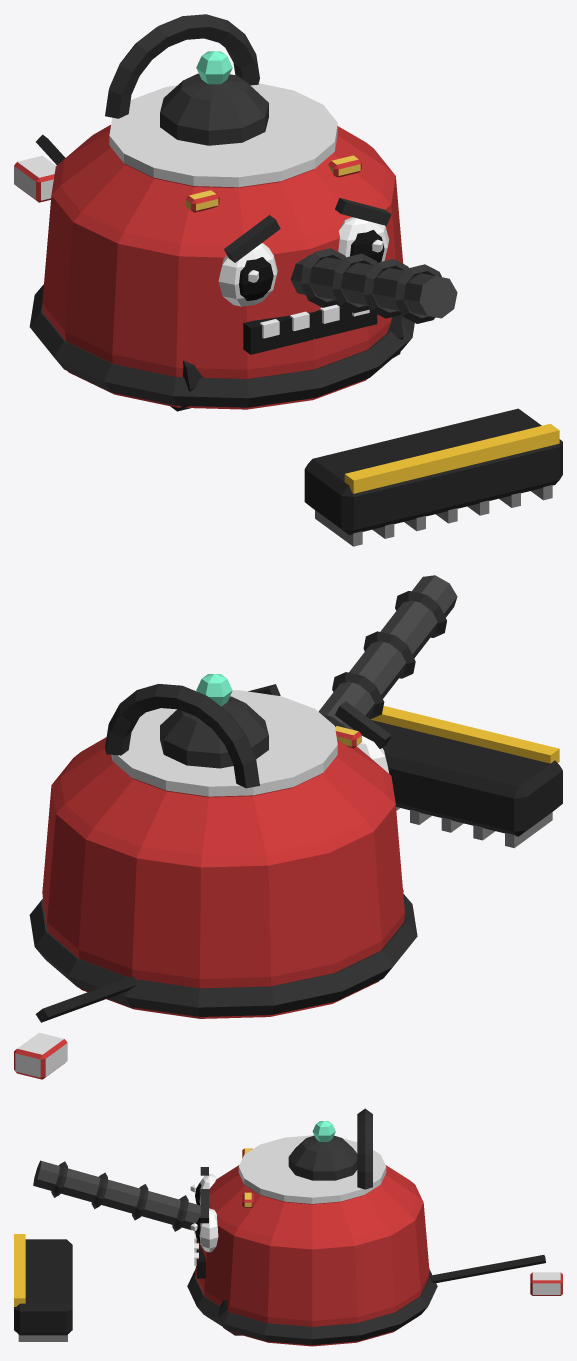
Rendered from staubsauger.glb.
3 renders of one model, top to bottom at view 1: azimuth 30°, elevation 25°; view 2: azimuth 150°, elevation 25°; view 3: azimuth 270°, elevation 25°, orthographic. The views are drawn at different scales.
Visible parts, largest first — view 1: body-m, nozzle-m, hose-m, eye-0-m, eye-1-m, lamp-m; view 2: body-m, nozzle-m, hose-m, lamp-m; view 3: body-m, nozzle-m, hose-m, eye-1-m, lamp-m, eye-0-m.
Boxes of the visible parts, <box> form: body-m: <box>14,14,414,411</box>; nozzle-m: <box>304,408,562,546</box>; hose-m: <box>290,248,457,323</box>; eye-0-m: <box>218,243,277,306</box>; eye-1-m: <box>338,217,388,262</box>; lamp-m: <box>196,51,232,84</box>; body-m: <box>14,684,417,1079</box>; nozzle-m: <box>370,706,562,848</box>; hose-m: <box>318,575,457,730</box>; lamp-m: <box>196,674,232,706</box>; body-m: <box>187,1108,562,1346</box>; nozzle-m: <box>14,1234,72,1341</box>; hose-m: <box>33,1160,200,1231</box>; eye-1-m: <box>190,1208,218,1252</box>; lamp-m: <box>312,1121,335,1141</box>; eye-0-m: <box>190,1174,216,1205</box>.
Bounding box in the file's own units: 2.14 × 1.86 × 4.69.
